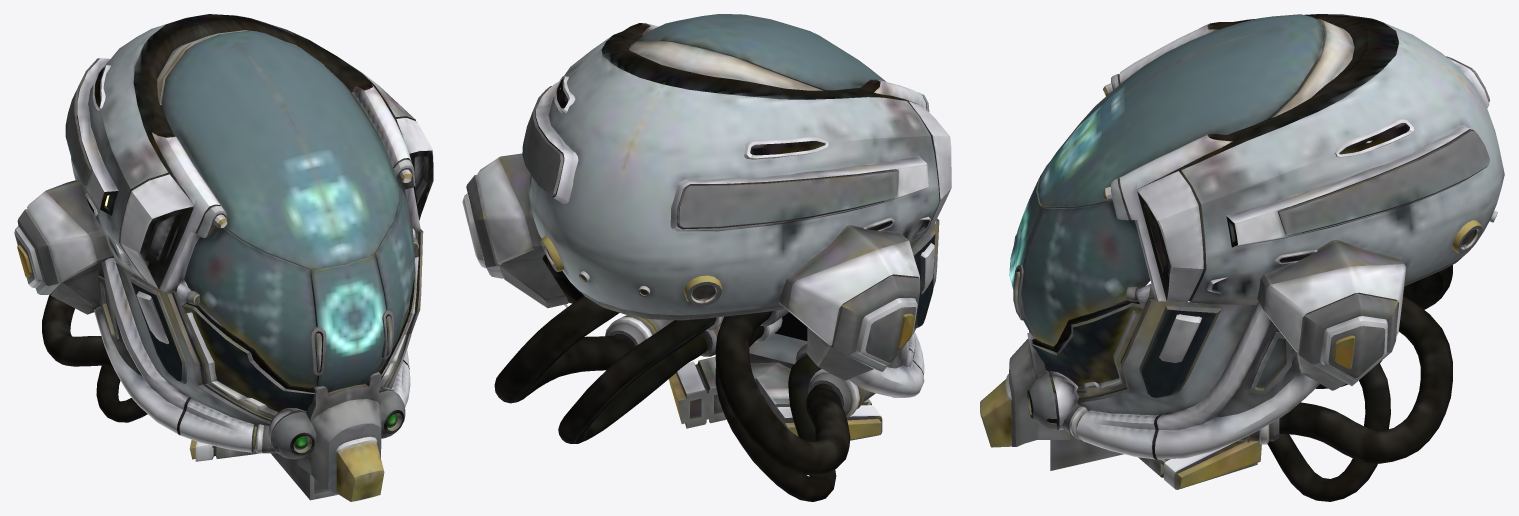
The model's file is DamagedHelmet@128px_draco_compressed.glb.
3 renders of one model, left to right at view 1: azimuth 30°, elevation 25°; view 2: azimuth 150°, elevation 25°; view 3: azimuth 270°, elevation 25°, orthographic. The views are drawn at different scales.
Parts seen in each view (by area): view 1: node_damagedHelmet_-6514; view 2: node_damagedHelmet_-6514; view 3: node_damagedHelmet_-6514.
Part boxes in pixels (x1,y1,x2,y2): node_damagedHelmet_-6514: [14, 14, 433, 501]; node_damagedHelmet_-6514: [462, 14, 951, 501]; node_damagedHelmet_-6514: [980, 14, 1504, 501].
Bounding box in the file's own units: 1.89 × 1.8 × 2.
Materials: 1 (1 with a texture image).
